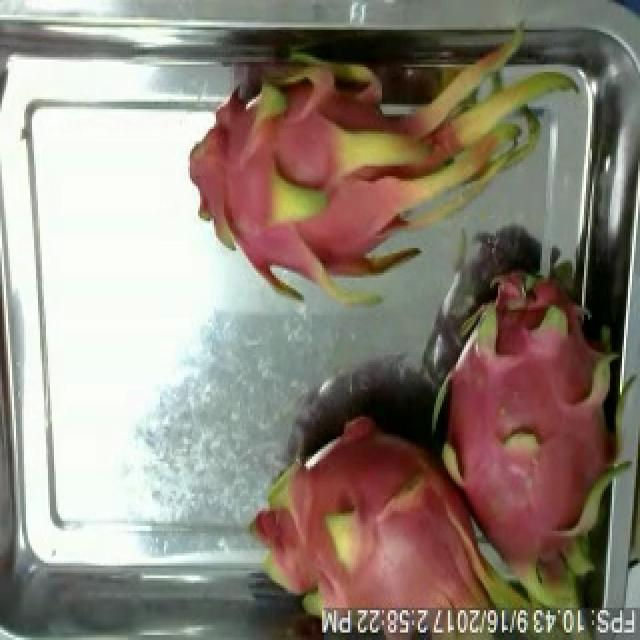Fruit: (286, 402, 446, 544)
